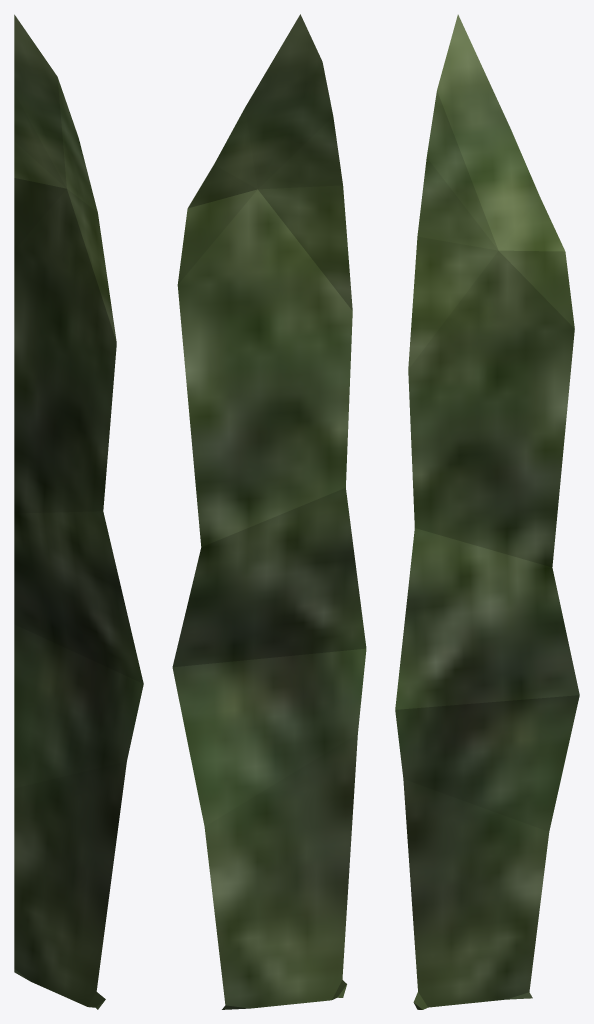
3 renders of one model, left to right at view 1: azimuth 90°, elevation 25°; view 2: azimuth 150°, elevation 25°; view 3: azimuth 330°, elevation 25°, orthographic. The views are drawn at different scales.
Bounding box in the file's own units: 0.1653 × 1.25 × 0.1478.
Materials: 1 (1 with a texture image).
